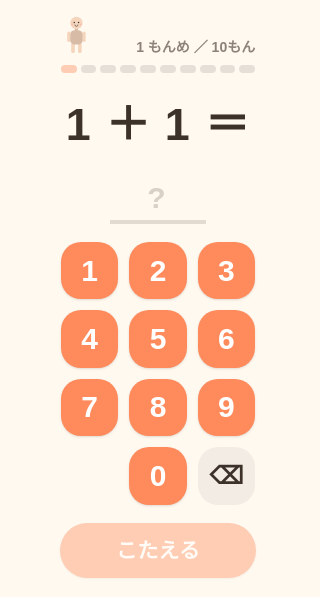
Test case: an incorrect answer reveals the correct answer
Click the button "5" at (158, 339), box [129,310,187,368]
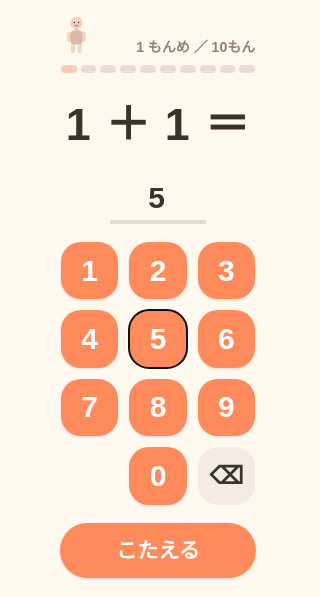
Click the button "こたえる" at (158, 550), box [60,522,256,578]
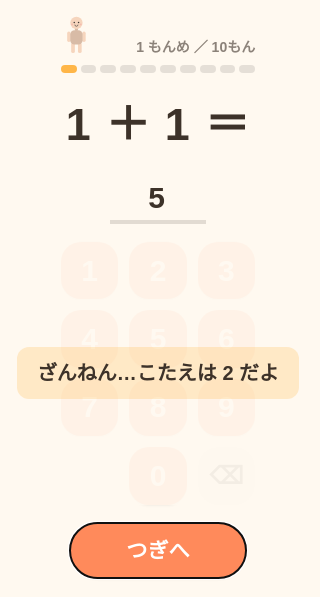
expect the text "ざんねん…こたえは 2 だよ" is shown: met, box [17,347,299,399]
